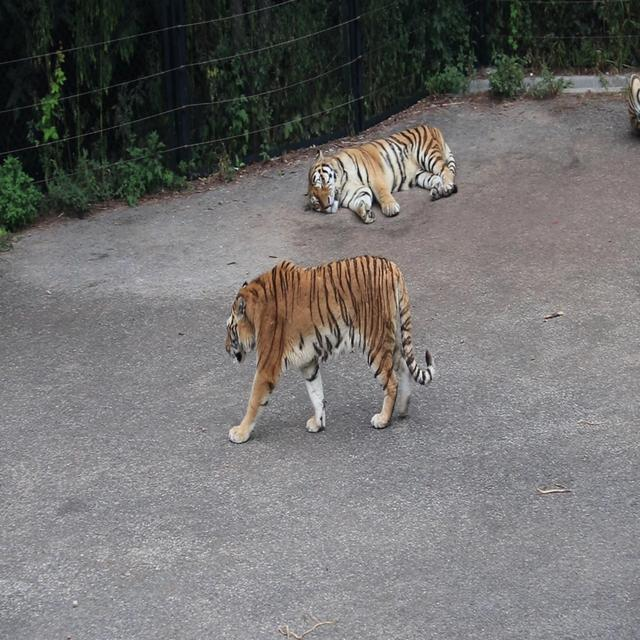tiger: (223, 253, 434, 444), (304, 122, 457, 224)
